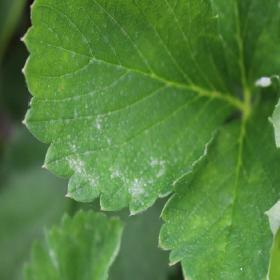Powdery Mildew Leaf: (18, 0, 245, 216)
